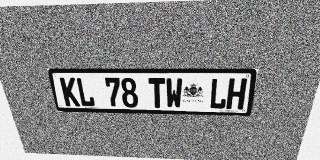7: (104, 78, 123, 107)
8: (120, 78, 138, 108)
H: (226, 78, 247, 109)
K: (59, 77, 80, 106)
L: (209, 78, 229, 109), (75, 78, 95, 107)
T: (148, 78, 165, 108)
W: (166, 78, 183, 108)
